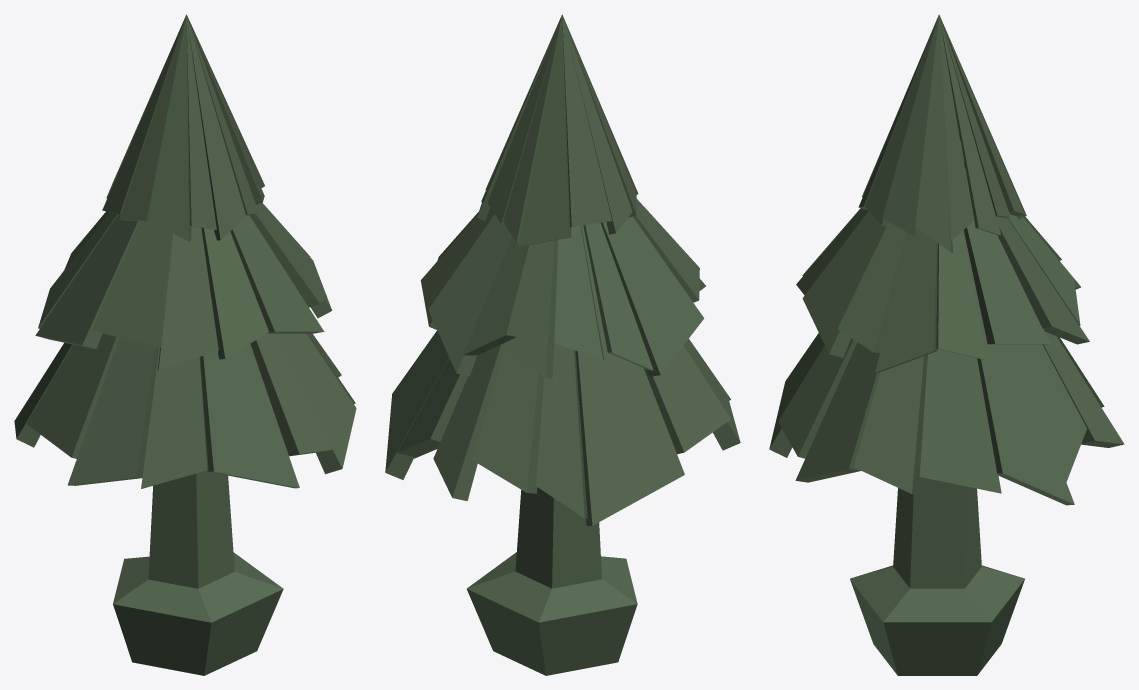
Rendered from evergreen3.fbx.
The picture shows the model from 3 angles, left to right: view 1: azimuth 30°, elevation 25°; view 2: azimuth 150°, elevation 25°; view 3: azimuth 270°, elevation 25°; orthographic projection.
Parts seen in each view (by area): view 1: evergreen3; view 2: evergreen3; view 3: evergreen3.
Boxes of the visible parts, left/top/right/bottom form: evergreen3: left=14, top=14, right=356, bottom=675; evergreen3: left=385, top=14, right=740, bottom=675; evergreen3: left=769, top=14, right=1124, bottom=675.
Size of the model in its own units: 236 by 487 by 246.
